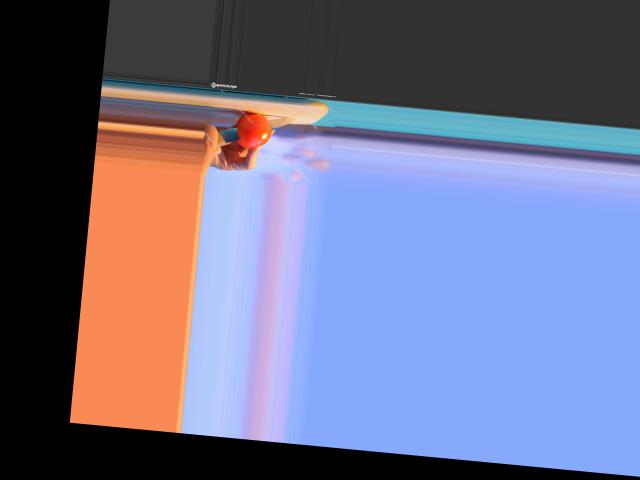tomato: (234, 110, 274, 149)
